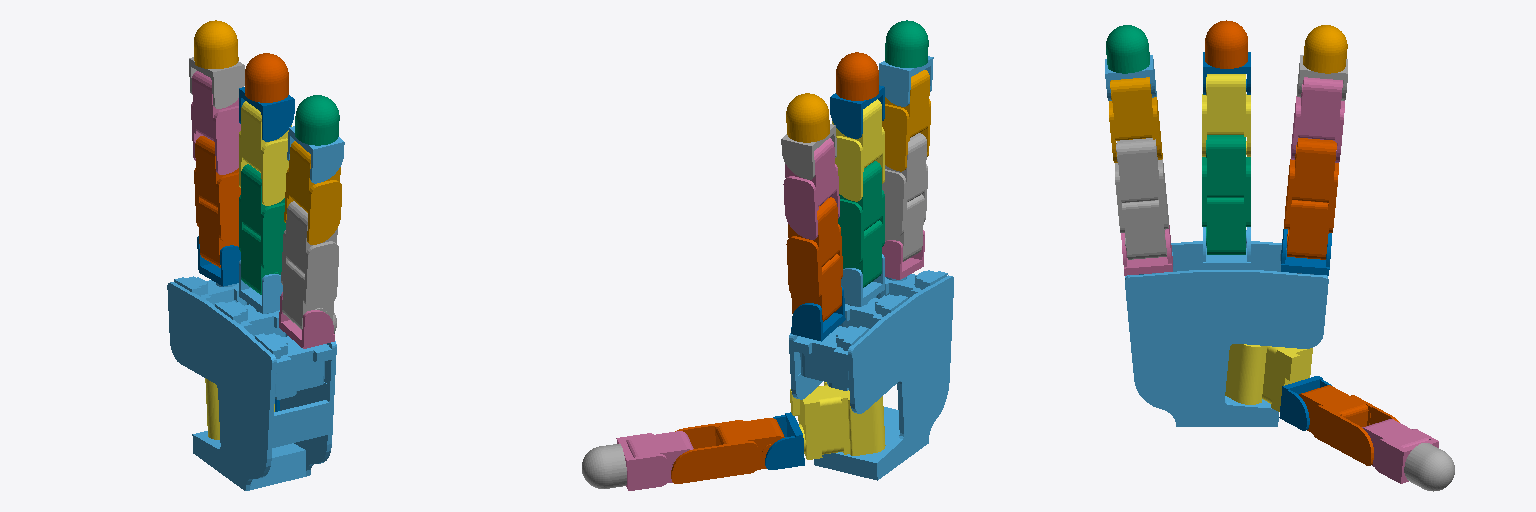
robot.urdf — allegro_right:
<?xml version='1.0' encoding='utf-8'?>
<robot name="allegro_right">
  <link name="hand_root" />
  <joint name="hand_root_joint" type="fixed">
    <origin rpy="0 0 0" xyz="0 0 0" />
    <parent link="hand_root" />
    <child link="base_link" />
  </joint>
  <mujoco>
    <compiler balanceinertia="true" discardvisual="false" fusestatic="false" inertiafromgeom="false" />
  </mujoco>
  <link name="base_link">
    <inertial>
      <mass value="0.4154" />
      <origin rpy="0 0 0" xyz="0 0 0" />
      <inertia ixx="1e-4" ixy="0" ixz="0" iyy="1e-4" iyz="0" izz="1e-4" />
    </inertial>
    <visual name="base_link_base_link_visual">
      <geometry>
        <mesh filename="meshes/visual/base_link.obj" />
      </geometry>
      <origin rpy="0 0 0" xyz="0 0 0 " />
    </visual>
    <collision>
      <origin rpy="0 0 0" xyz="-0.009 0.0 -0.023" />
      <geometry>
        <box size="0.0414 0.112 0.0448" />
      </geometry>
    </collision>
    <collision>
      <origin rpy="0 0 0" xyz="-0.009 -0.0253 -0.0667" />
      <geometry>
        <box size="0.0414 0.0538 0.0428" />
      </geometry>
    </collision>
    <collision>
      <origin rpy="0 0 0" xyz="-0.009300 -0.00557 -0.08874" />
      <geometry>
        <box size="0.0414 0.0720 0.013" />
      </geometry>
    </collision>
  </link>
  <link name="palm" />
  <joint name="palm_joint" type="fixed">
    <parent link="base_link" />
    <child link="palm" />
    <origin rpy="0.00000 -0.00000 0.00000" xyz="0 0 -0.065" />
  </joint>
  <link name="wrist" />
  <joint name="wrist_joint" type="fixed">
    <origin rpy="0 0 0" xyz="0 0 -0.03" />
    <parent link="palm" />
    <child link="wrist" />
  </joint>
  <link name="link_0.0">
    <visual name="link_0.0_link_0.0_visual">
      <geometry>
        <mesh filename="meshes/visual/link_0.0.obj" />
      </geometry>
    </visual>
    <collision>
      <geometry>
        <box size="0.0196 0.0275 0.0164" />
      </geometry>
      <origin rpy="0 0 0" xyz="0 0 0.0082" />
    </collision>
    <inertial>
      <mass value="0.0119" />
      <origin xyz="0 0 0" rpy="0 0 0" />
      <inertia ixx="1.01666658333e-06" ixy="0.0" ixz="0.0" iyy="6.47677333333e-07" iyz="0.0" izz="1.01666658333e-06" />
    </inertial>
  </link>
  <joint name="joint_0.0" type="revolute">
    <axis xyz="0 0 1" />
    <limit effort="10" lower="-0.47" upper="0.47" velocity="3.14" />
    <parent link="base_link" />
    <child link="link_0.0" />
    <origin rpy="-0.08726646255 0 0" xyz="0 0.0435 -0.001542" />
  </joint>
  <link name="link_1.0">
    <inertial>
      <mass value="0.065" />
      <origin xyz="0 0 0" rpy="0 0 0" />
      <inertia ixx="7.95654166667e-05" ixy="1.7199e-05" ixz="8.75875e-06" iyy="2.47088833333e-05" iyz="2.413125e-05" izz="7.95654166667e-05" />
    </inertial>
    <visual name="link_1.0_link_1.0_visual">
      <geometry>
        <mesh filename="meshes/visual/link_1.0.obj" />
      </geometry>
    </visual>
    <collision>
      <geometry>
        <box size="0.0196 0.0275 0.054" />
      </geometry>
      <origin rpy="0 0 0" xyz="0 0 0.027" />
    </collision>
  </link>
  <joint name="joint_1.0" type="revolute">
    <limit effort="10" lower="-0.196" upper="1.61" velocity="3.14" />
    <axis xyz="0 1 0" />
    <parent link="link_0.0" />
    <child link="link_1.0" />
    <origin xyz="0 0 0.0164" />
  </joint>
  <link name="link_2.0">
    <inertial>
      <mass value="0.0355" />
      <origin xyz="0 0 0" rpy="0 0 0" />
      <inertia ixx="2.63979183333e-05" ixy="6.67968e-06" ixz="4.783625e-06" iyy="1.34948516667e-05" iyz="9.372e-06" izz="2.63979183333e-05" />
    </inertial>
    <visual name="link_2.0_link_2.0_visual">
      <geometry>
        <mesh filename="meshes/visual/link_2.0.obj" />
      </geometry>
    </visual>
    <collision>
      <geometry>
        <box size="0.0196 0.0275 0.0384" />
      </geometry>
      <origin rpy="0 0 0" xyz="0 0 0.0192" />
    </collision>
  </link>
  <joint name="joint_2.0" type="revolute">
    <axis xyz="0 1 0" />
    <limit effort="10" lower="-0.174" upper="1.709" velocity="3.14" />
    <parent link="link_1.0" />
    <child link="link_2.0" />
    <origin xyz="0 0 0.054" />
  </joint>
  <link name="link_3.0">
    <visual name="link_3.0_link_3.0_visual">
      <geometry>
        <mesh filename="meshes/visual/link_3.0.obj" />
      </geometry>
    </visual>
    <collision>
      <geometry>
        <box size="0.0196 0.0269 0.022" />
      </geometry>
      <origin rpy="0 0 0" xyz="0 0 0.0047" />
    </collision>
    <inertial>
      <origin rpy="0 0 0" xyz="0 0 0.01335" />
      <mass value="0.02" />
      <inertia ixx="1e-5" ixy="0.0" ixz="0.0" iyy="2e-5" iyz="0.0" izz="2e-5" />
    </inertial>
  </link>
  <joint name="joint_3.0" type="revolute">
    <axis xyz="0 1 0" />
    <limit effort="10" lower="-0.227" upper="1.618" velocity="3.14" />
    <parent link="link_2.0" />
    <child link="link_3.0" />
    <origin xyz="0 0 0.0384" />
  </joint>
  <link name="link_3.0_tip">
    <inertial>
      <mass value="0.0168" />
      <origin xyz="0 0 0" rpy="0 0 0" />
      <inertia ixx="9.68e-07" ixy="0" ixz="0" iyy="9.68e-07" iyz="0" izz="9.68e-07" />
    </inertial>
    <visual name="link_3.0_tip_link_tip_visual">
      <origin rpy="0 0 0" xyz="0 0 -0.012" />
      <geometry>
        <mesh filename="meshes/visual/link_tip.obj" />
      </geometry>
    </visual>
    <collision>
      <origin rpy="0 0 0" xyz="0 0 -0.012" />
      <geometry>
        <mesh filename="meshes/collision/link_tip_collision000.obj" />
      </geometry>
    </collision>
  </link>
  <joint name="joint_3.0_tip" type="fixed">
    <parent link="link_3.0" />
    <child link="link_3.0_tip" />
    <origin rpy="0 0 0" xyz="0 0 0.0387" />
  </joint>
  <link name="link_4.0">
    <inertial>
      <mass value="0.005" />
      <origin xyz="0 0 0" />
      <inertia ixx="5.1458e-05" iyy="5.1458e-05" izz="6.125e-05" ixy="0" ixz="0" iyz="0" />
    </inertial>
    <visual name="link_4.0_link_0.0_visual">
      <geometry>
        <mesh filename="meshes/visual/link_0.0.obj" />
      </geometry>
    </visual>
    <collision>
      <geometry>
        <box size="0.0196 0.0275 0.0164" />
      </geometry>
      <origin rpy="0 0 0" xyz="0 0 0.0082" />
    </collision>
  </link>
  <joint name="joint_4.0" type="revolute">
    <axis xyz="0 0 1" />
    <limit effort="10" lower="-0.47" upper="0.47" velocity="3.14" />
    <parent link="base_link" />
    <child link="link_4.0" />
    <origin rpy="0.0 0 0" xyz="0 0 0.0007" />
  </joint>
  <link name="link_5.0">
    <inertial>
      <mass value="0.065" />
      <origin xyz="0 0 0" rpy="0 0 0" />
      <inertia ixx="7.95654166667e-05" ixy="1.7199e-05" ixz="8.75875e-06" iyy="2.47088833333e-05" iyz="2.413125e-05" izz="7.95654166667e-05" />
    </inertial>
    <visual name="link_5.0_link_1.0_visual">
      <geometry>
        <mesh filename="meshes/visual/link_1.0.obj" />
      </geometry>
    </visual>
    <collision>
      <geometry>
        <box size="0.0196 0.0275 0.054" />
      </geometry>
      <origin rpy="0 0 0" xyz="0 0 0.027" />
    </collision>
  </link>
  <joint name="joint_5.0" type="revolute">
    <limit effort="10" lower="-0.196" upper="1.61" velocity="3.14" />
    <axis xyz="0 1 0" />
    <parent link="link_4.0" />
    <child link="link_5.0" />
    <origin xyz="0 0 0.0164" />
  </joint>
  <link name="link_6.0">
    <inertial>
      <mass value="0.0355" />
      <origin xyz="0 0 0" rpy="0 0 0" />
      <inertia ixx="2.63979183333e-05" ixy="6.67968e-06" ixz="4.783625e-06" iyy="1.34948516667e-05" iyz="9.372e-06" izz="2.63979183333e-05" />
    </inertial>
    <visual name="link_6.0_link_2.0_visual">
      <geometry>
        <mesh filename="meshes/visual/link_2.0.obj" />
      </geometry>
    </visual>
    <collision>
      <geometry>
        <box size="0.0196 0.0275 0.0384" />
      </geometry>
      <origin rpy="0 0 0" xyz="0 0 0.0192" />
    </collision>
  </link>
  <joint name="joint_6.0" type="revolute">
    <axis xyz="0 1 0" />
    <limit effort="10" lower="-0.174" upper="1.709" velocity="3.14" />
    <parent link="link_5.0" />
    <child link="link_6.0" />
    <origin xyz="0 0 0.054" />
  </joint>
  <link name="link_7.0">
    <inertial>
      <mass value="0.0388" />
      <origin xyz="0 0 0" rpy="0 0 0" />
      <inertia ixx="3.29223173333e-05" ixy="8.042076e-06" ixz="5.2283e-06" iyy="1.47493026667e-5" iyz="1.1283525e-5" izz="3.29223173333e-05" />
    </inertial>
    <visual name="link_7.0_link_3.0_visual">
      <geometry>
        <mesh filename="meshes/visual/link_3.0.obj" />
      </geometry>
    </visual>
    <collision>
      <geometry>
        <box size="0.0196 0.0269 0.022" />
      </geometry>
      <origin rpy="0 0 0" xyz="0 0 0.0047" />
    </collision>
  </link>
  <joint name="joint_7.0" type="revolute">
    <axis xyz="0 1 0" />
    <limit effort="10" lower="-0.227" upper="1.618" velocity="3.14" />
    <parent link="link_6.0" />
    <child link="link_7.0" />
    <origin xyz="0 0 0.0384" />
  </joint>
  <link name="link_7.0_tip">
    <inertial>
      <mass value="0.0096" />
      <origin xyz="0 0 0" rpy="0 0 0" />
      <inertia ixx="4.701248e-06" ixy="1.255968e-06" ixz="1.2936e-06" iyy="3.649312e-06" iyz="1.7622e-06" izz="4.701248e-06" />
    </inertial>
    <visual name="link_7.0_tip_link_tip_visual">
      <origin rpy="0 0 0" xyz="0 0 -0.012" />
      <geometry>
        <mesh filename="meshes/visual/link_tip.obj" />
      </geometry>
    </visual>
    <collision>
      <origin rpy="0 0 0" xyz="0 0 -0.012" />
      <geometry>
        <mesh filename="meshes/collision/link_tip_collision000.obj" />
      </geometry>
    </collision>
  </link>
  <joint name="joint_7.0_tip" type="fixed">
    <parent link="link_7.0" />
    <child link="link_7.0_tip" />
    <origin rpy="0 0 0" xyz="0 0 0.0387" />
  </joint>
  <link name="link_8.0">
    <inertial>
      <mass value="0.005" />
      <origin xyz="0 0 0" />
      <inertia ixx="5.1458e-05" iyy="5.1458e-05" izz="6.125e-05" ixy="0" ixz="0" iyz="0" />
    </inertial>
    <visual name="link_8.0_link_0.0_visual">
      <geometry>
        <mesh filename="meshes/visual/link_0.0.obj" />
      </geometry>
    </visual>
    <collision>
      <geometry>
        <box size="0.0196 0.0275 0.0164" />
      </geometry>
      <origin rpy="0 0 0" xyz="0 0 0.0082" />
    </collision>
  </link>
  <joint name="joint_8.0" type="revolute">
    <axis xyz="0 0 1" />
    <limit effort="10" lower="-0.47" upper="0.47" velocity="3.14" />
    <parent link="base_link" />
    <child link="link_8.0" />
    <origin rpy="0.08726646255 0 0" xyz="0 -0.0435 -0.001542" />
  </joint>
  <link name="link_9.0">
    <inertial>
      <mass value="0.065" />
      <origin xyz="0 0 0" rpy="0 0 0" />
      <inertia ixx="7.95654166667e-05" ixy="1.7199e-05" ixz="8.75875e-06" iyy="2.47088833333e-05" iyz="2.413125e-05" izz="7.95654166667e-05" />
    </inertial>
    <visual name="link_9.0_link_1.0_visual">
      <geometry>
        <mesh filename="meshes/visual/link_1.0.obj" />
      </geometry>
    </visual>
    <collision>
      <geometry>
        <box size="0.0196 0.0275 0.054" />
      </geometry>
      <origin rpy="0 0 0" xyz="0 0 0.027" />
    </collision>
  </link>
  <joint name="joint_9.0" type="revolute">
    <limit effort="10" lower="-0.196" upper="1.61" velocity="3.14" />
    <axis xyz="0 1 0" />
    <parent link="link_8.0" />
    <child link="link_9.0" />
    <origin xyz="0 0 0.0164" />
  </joint>
  <link name="link_10.0">
    <inertial>
      <mass value="0.0355" />
      <origin xyz="0 0 0" rpy="0 0 0" />
      <inertia ixx="2.63979183333e-05" ixy="6.67968e-06" ixz="4.783625e-06" iyy="1.34948516667e-05" iyz="9.372e-06" izz="2.63979183333e-05" />
    </inertial>
    <visual name="link_10.0_link_2.0_visual">
      <geometry>
        <mesh filename="meshes/visual/link_2.0.obj" />
      </geometry>
    </visual>
    <collision>
      <geometry>
        <box size="0.0196 0.0275 0.0384" />
      </geometry>
      <origin rpy="0 0 0" xyz="0 0 0.0192" />
    </collision>
  </link>
  <joint name="joint_10.0" type="revolute">
    <axis xyz="0 1 0" />
    <limit effort="10" lower="-0.174" upper="1.709" velocity="3.14" />
    <parent link="link_9.0" />
    <child link="link_10.0" />
    <origin xyz="0 0 0.054" />
  </joint>
  <link name="link_11.0">
    <inertial>
      <mass value="0.0096" />
      <origin xyz="0 0 0" rpy="0 0 0" />
      <inertia ixx="4.701248e-06" ixy="1.255968e-06" ixz="1.2936e-06" iyy="3.649312e-06" iyz="1.7622e-06" izz="4.701248e-06" />
    </inertial>
    <visual name="link_11.0_link_3.0_visual">
      <geometry>
        <mesh filename="meshes/visual/link_3.0.obj" />
      </geometry>
    </visual>
    <collision>
      <geometry>
        <box size="0.0196 0.0269 0.022" />
      </geometry>
      <origin rpy="0 0 0" xyz="0 0 0.0047" />
    </collision>
  </link>
  <joint name="joint_11.0" type="revolute">
    <axis xyz="0 1 0" />
    <limit effort="10" lower="-0.227" upper="1.618" velocity="3.14" />
    <parent link="link_10.0" />
    <child link="link_11.0" />
    <origin xyz="0 0 0.0384" />
  </joint>
  <link name="link_11.0_tip">
    <inertial>
      <mass value="0.0168" />
      <origin xyz="0 0 0" rpy="0 0 0" />
      <inertia ixx="9.68e-07" ixy="0" ixz="0" iyy="9.68e-07" iyz="0" izz="9.68e-07" />
    </inertial>
    <visual name="link_11.0_tip_link_tip_visual">
      <origin rpy="0 0 0" xyz="0 0 -0.012" />
      <geometry>
        <mesh filename="meshes/visual/link_tip.obj" />
      </geometry>
    </visual>
    <collision>
      <origin rpy="0 0 0" xyz="0 0 -0.012" />
      <geometry>
        <mesh filename="meshes/collision/link_tip_collision000.obj" />
      </geometry>
    </collision>
  </link>
  <joint name="joint_11.0_tip" type="fixed">
    <parent link="link_11.0" />
    <child link="link_11.0_tip" />
    <origin rpy="0 0 0" xyz="0 0 0.0387" />
  </joint>
  <link name="link_12.0">
    <inertial>
      <mass value="0.0176" />
      <origin xyz="0 0 0" rpy="0 0 0" />
      <inertia ixx="1.89273333333e-5" ixy="7.16716e-06" ixz="5.35568e-06" iyy="1.43008213333e-05" iyz="6.8068e-06" izz="1.89273333333e-05" />
    </inertial>
    <visual name="link_12.0_link_12.0_right_visual">
      <geometry>
        <mesh filename="meshes/visual/link_12.0_right.obj" />
      </geometry>
    </visual>
    <collision>
      <geometry>
        <box size="0.0358 0.034 0.0455" />
      </geometry>
      <origin rpy="0 0 0" xyz="-0.0179 0.009 0.0145" />
    </collision>
  </link>
  <joint name="joint_12.0" type="revolute">
    <axis xyz="-1 0 0" />
    <limit effort="10" lower="0.263" upper="1.396" velocity="3.14" />
    <parent link="base_link" />
    <child link="link_12.0" />
    <origin rpy="0 -1.65806278845 -1.5707963259" xyz="-0.0182 0.019333 -0.045987" />
  </joint>
  <link name="link_13.0">
    <inertial>
      <mass value="0.0119" />
      <origin xyz="0 0 0" rpy="0 0 0" />
      <inertia ixx="4.24250866667e-06" ixy="1.032087e-06" ixz="1.603525e-06" iyy="4.52362633333e-06" iyz="1.44808125e-06" izz="4.24250866667e-06" />
    </inertial>
    <visual name="link_13.0_link_13.0_visual">
      <geometry>
        <mesh filename="meshes/visual/link_13.0.obj" />
      </geometry>
    </visual>
    <collision>
      <geometry>
        <box size="0.0196 0.0275 0.0177" />
      </geometry>
      <origin rpy="0 0 0" xyz="0 0 0.00885" />
    </collision>
  </link>
  <joint name="joint_13.0" type="revolute">
    <axis xyz="0 0 1" />
    <limit effort="10" lower="-0.105" upper="1.163" velocity="3.14" />
    <parent link="link_12.0" />
    <child link="link_13.0" />
    <origin xyz="-0.027 0.005 0.0399" />
  </joint>
  <link name="link_14.0">
    <inertial>
      <mass value="0.038" />
      <origin xyz="0 0 0" rpy="0 0 0" />
      <inertia ixx="4.30439933333e-05" ixy="9.57068e-06" ixz="5.1205e-06" iyy="1.44451933333e-05" iyz="1.342825e-05" izz="4.30439933333e-05" />
    </inertial>
    <visual name="link_14.0_link_14.0_visual">
      <geometry>
        <mesh filename="meshes/visual/link_14.0.obj" />
      </geometry>
    </visual>
    <collision>
      <geometry>
        <box size="0.0196 0.0275 0.0514" />
      </geometry>
      <origin rpy="0 0 0" xyz="0 0 0.0257" />
    </collision>
  </link>
  <joint name="joint_14.0" type="revolute">
    <axis xyz="0 1 0" />
    <limit effort="10" lower="-0.189" upper="1.644" velocity="3.14" />
    <parent link="link_13.0" />
    <child link="link_14.0" />
    <origin xyz="0 0 0.0177" />
  </joint>
  <link name="link_15.0">
    <inertial>
      <mass value="0.0388" />
      <origin xyz="0 0 0" rpy="0 0 0" />
      <inertia ixx="3.29223173333e-05" ixy="8.042076e-06" ixz="5.2283e-06" iyy="1.47493026667e-5" iyz="1.1283525e-5" izz="3.29223173333e-05" />
    </inertial>
    <visual name="link_15.0_link_15.0_visual">
      <geometry>
        <mesh filename="meshes/visual/link_15.0.obj" />
      </geometry>
    </visual>
    <collision>
      <geometry>
        <box size="0.0196 0.0269 0.04" />
      </geometry>
      <origin rpy="0 0 0" xyz="0 0 0.01125" />
    </collision>
  </link>
  <joint name="joint_15.0" type="revolute">
    <axis xyz="0 1 0" />
    <limit effort="10" lower="-0.162" upper="1.719" velocity="3.14" />
    <parent link="link_14.0" />
    <child link="link_15.0" />
    <origin xyz="0 0 0.0514" />
  </joint>
  <link name="link_15.0_tip">
    <inertial>
      <mass value="0.0168" />
      <origin xyz="0 0 0" rpy="0 0 0" />
      <inertia ixx="9.68e-07" ixy="0" ixz="0" iyy="9.68e-07" iyz="0" izz="9.68e-07" />
    </inertial>
    <visual name="link_15.0_tip_link_tip_visual">
      <origin rpy="0 0 0" xyz="0 0 -0.012" />
      <geometry>
        <mesh filename="meshes/visual/link_tip.obj" />
      </geometry>
    </visual>
    <collision>
      <origin rpy="0 0 0" xyz="0 0 -0.012" />
      <geometry>
        <mesh filename="meshes/collision/link_tip_collision000.obj" />
      </geometry>
    </collision>
  </link>
  <joint name="joint_15.0_tip" type="fixed">
    <parent link="link_15.0" />
    <child link="link_15.0_tip" />
    <origin rpy="0 0 0" xyz="0 0 0.0543" />
  </joint>
</robot>

--- What the picture shows (computed from the rendered views, not written in the file) ---
Views: 3 orthographic renders of the robot side by side, from view 1: azimuth 30°, elevation 25°; view 2: azimuth 150°, elevation 25°; view 3: azimuth 270°, elevation 25°.
Robot: allegro_right — 24 links, 23 joints (16 revolute, 7 fixed); root link hand_root; default pose: all joints at 0 but 1 set to mid-range because 0 is outside their limits (joint_12.0 = 0.8295).
Visible links, largest first — view 1: base_link, link_9.0, link_1.0, link_5.0, link_10.0, link_2.0, link_6.0, link_11.0_tip, link_7.0_tip, link_3.0_tip, link_8.0, link_3.0 (+5 smaller); view 2: base_link, link_14.0, link_12.0, link_1.0, link_5.0, link_9.0, link_2.0, link_15.0, link_6.0, link_10.0, link_3.0_tip, link_7.0_tip (+9 smaller); view 3: base_link, link_1.0, link_9.0, link_5.0, link_12.0, link_14.0, link_2.0, link_10.0, link_6.0, link_15.0, link_15.0_tip, link_3.0_tip (+9 smaller).
Boxes of the visible links, x1,y1,x2,y2 form: base_link: (167, 276, 336, 490); link_9.0: (281, 201, 338, 329); link_1.0: (194, 136, 240, 267); link_5.0: (239, 164, 285, 294); link_10.0: (284, 141, 341, 244); link_2.0: (191, 71, 240, 174); link_6.0: (239, 101, 291, 205); link_11.0_tip: (295, 95, 339, 145); link_7.0_tip: (245, 53, 288, 102); link_3.0_tip: (194, 20, 238, 68); link_8.0: (279, 292, 334, 348); link_3.0: (189, 57, 244, 108); base_link: (789, 270, 953, 480); link_14.0: (671, 418, 784, 483); link_12.0: (790, 382, 885, 459); link_1.0: (786, 197, 842, 321); link_5.0: (838, 161, 884, 287); link_9.0: (882, 133, 927, 261); link_2.0: (783, 138, 839, 239); link_15.0: (616, 431, 693, 490); link_6.0: (832, 99, 884, 201); link_10.0: (882, 70, 930, 171); link_3.0_tip: (786, 93, 829, 142); link_7.0_tip: (836, 52, 878, 100); base_link: (1125, 241, 1328, 426); link_1.0: (1284, 138, 1338, 259); link_9.0: (1115, 138, 1168, 259); link_5.0: (1202, 135, 1250, 254); link_12.0: (1225, 344, 1312, 411); link_14.0: (1299, 385, 1399, 465); link_2.0: (1291, 77, 1344, 162); link_10.0: (1109, 77, 1162, 162); link_6.0: (1202, 74, 1250, 156); link_15.0: (1362, 419, 1438, 483); link_15.0_tip: (1404, 443, 1454, 491); link_3.0_tip: (1303, 25, 1347, 73).
Size in the robot's own frame: 0.1383 by 0.1948 by 0.2432 metres.
Meshes: 10 distinct files referenced, 21 mesh visuals loaded (10 OBJ).
